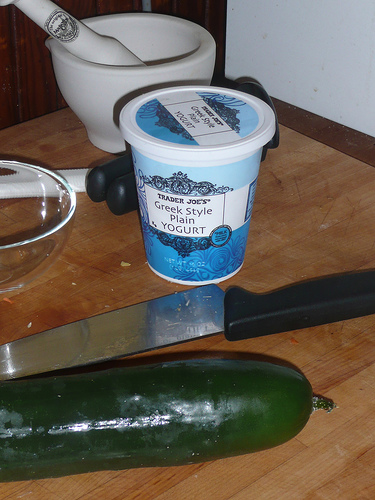cucumber: (0, 356, 335, 480)
